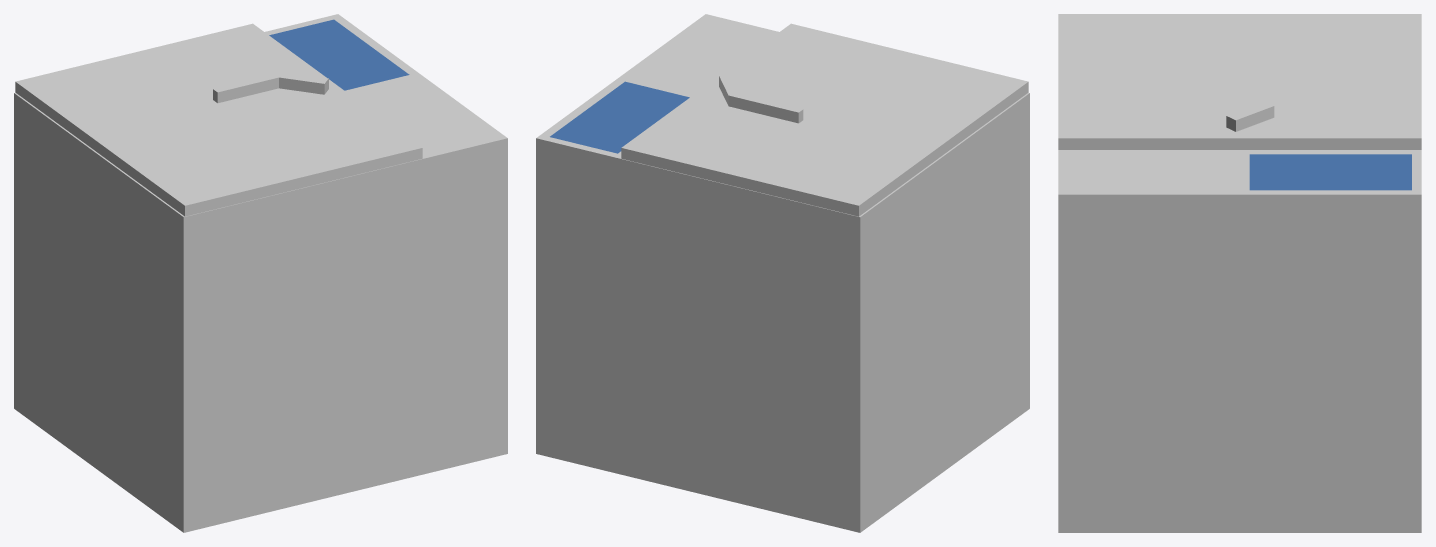
3 renders of one model, left to right at view 1: azimuth 30°, elevation 25°; view 2: azimuth 150°, elevation 25°; view 3: azimuth 270°, elevation 25°, orthographic. The views are drawn at different scales.
Visible parts, largest first — view 1: Cube.002; view 2: Cube.002; view 3: Cube.002.
Part boxes in pixels (x1,y1,x2,y2): Cube.002: [14, 14, 507, 532]; Cube.002: [536, 14, 1029, 532]; Cube.002: [1058, 14, 1421, 532].
Bounding box in the file's own units: 63.4 × 63.22 × 57.5.
